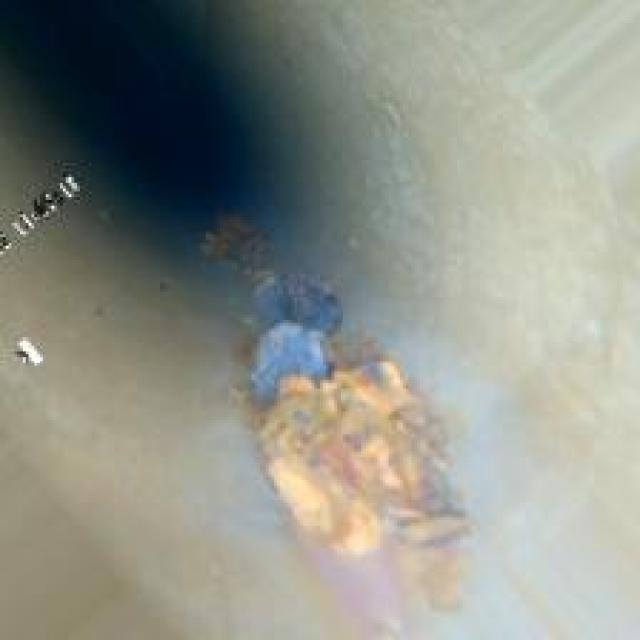stone: (243, 274, 457, 572)
